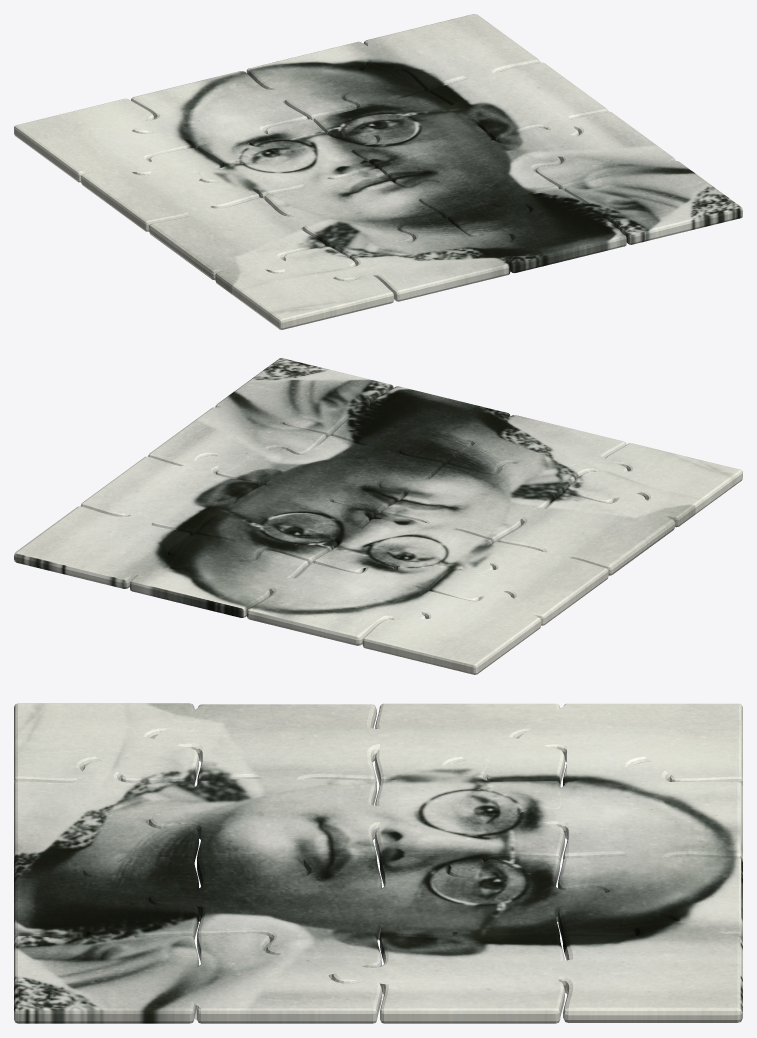
Rendered from Jigsaw_4x4.fbx.
The picture shows the model from 3 angles, top to bottom: view 1: azimuth 30°, elevation 25°; view 2: azimuth 150°, elevation 25°; view 3: azimuth 270°, elevation 25°; orthographic projection. The views are drawn at different scales.
Visible parts, largest first — view 1: Plane.009, Plane.007, Plane.002, Plane.010, Plane.012, Plane.016, Plane.011, Plane.005, Plane.003, Plane.008, Plane.014, Plane.017 (+4 smaller); view 2: Plane.005, Plane.012, Plane.014, Plane.010, Plane.016, Plane.003, Plane.011, Plane.013, Plane.015, Plane.009, Plane.002, Plane.007 (+4 smaller); view 3: Plane.014, Plane.015, Plane.007, Plane.010, Plane.011, Plane.012, Plane.006, Plane.016, Plane.005, Plane.003, Plane.017, Plane.009 (+4 smaller).
Part boxes in pixels (x1=…): Plane.009: x1=332, y1=217, x2=511, y2=301; Plane.007: x1=564, y1=161, x2=742, y2=244; Plane.002: x1=215, y1=246, x2=393, y2=329; Plane.010: x1=264, y1=168, x2=442, y2=247; Plane.012: x1=131, y1=71, x2=307, y2=149; Plane.016: x1=314, y1=90, x2=492, y2=170; Plane.011: x1=197, y1=119, x2=377, y2=199; Plane.005: x1=14, y1=98, x2=192, y2=182; Plane.003: x1=148, y1=197, x2=325, y2=280; Plane.008: x1=448, y1=189, x2=626, y2=273; Plane.014: x1=362, y1=14, x2=540, y2=91; Plane.017: x1=381, y1=140, x2=560, y2=219; Plane.005: x1=362, y1=590, x2=541, y2=674; Plane.012: x1=247, y1=563, x2=425, y2=645; Plane.014: x1=14, y1=505, x2=191, y2=588; Plane.010: x1=379, y1=463, x2=559, y2=543; Plane.016: x1=197, y1=484, x2=375, y2=564; Plane.003: x1=498, y1=493, x2=675, y2=575; Plane.011: x1=313, y1=513, x2=493, y2=592; Plane.013: x1=130, y1=534, x2=308, y2=617; Plane.015: x1=81, y1=456, x2=258, y2=535; Plane.009: x1=448, y1=415, x2=627, y2=494; Plane.002: x1=564, y1=443, x2=742, y2=527; Plane.007: x1=215, y1=358, x2=393, y2=437; Plane.014: x1=520, y1=916, x2=742, y2=1022; Plane.015: x1=332, y1=932, x2=564, y2=1023; Plane.007: x1=14, y1=932, x2=198, y2=1023; Plane.010: x1=149, y1=778, x2=381, y2=877; Plane.011: x1=375, y1=760, x2=564, y2=877; Plane.012: x1=517, y1=761, x2=742, y2=873; Plane.006: x1=191, y1=933, x2=381, y2=1023; Plane.016: x1=335, y1=856, x2=605, y2=940; Plane.005: x1=517, y1=703, x2=742, y2=785; Plane.003: x1=152, y1=704, x2=381, y2=783; Plane.017: x1=149, y1=856, x2=381, y2=955; Plane.009: x1=14, y1=760, x2=198, y2=877.
Bounding box in the file's own units: 423 × 9.75 × 423.
